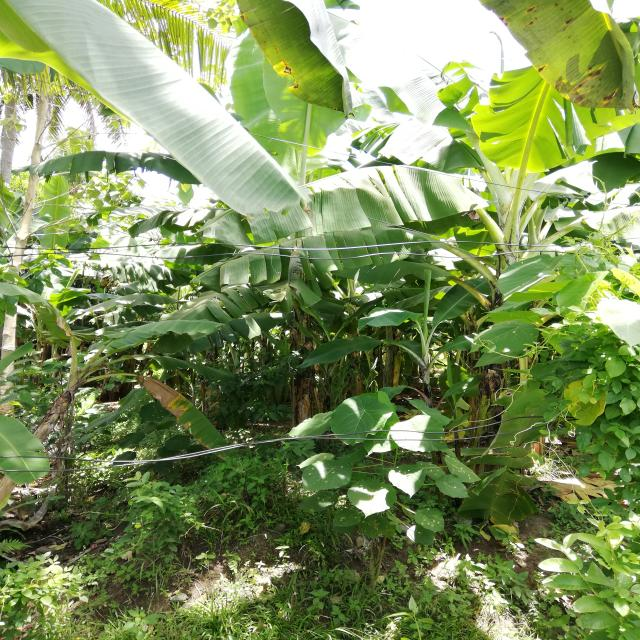Banana-plant: (0, 377, 98, 521)
